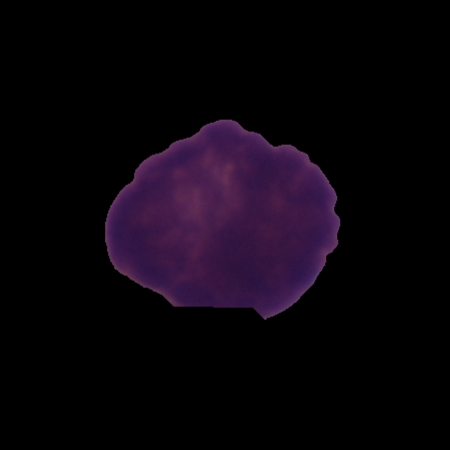ALL: (101, 115, 344, 322)
